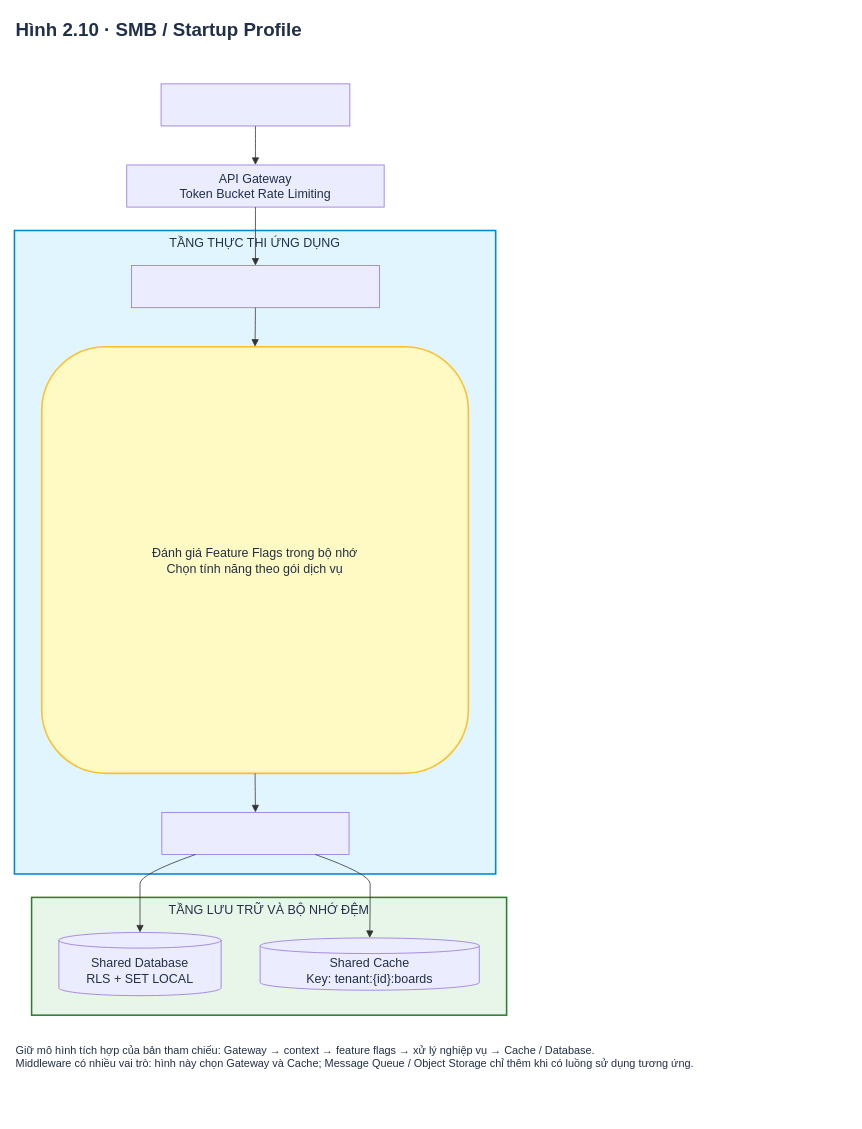
This 862x1129 diagram has some shape labels left out. The shapes that lost their labels are listed below. From the top down, each one's centre as x and y in pixels, then its label:
(255,104): Client Request (Tenant A)
(255,286): Tenant Context Filter Ngữ cảnh request bất biến
(255,833): Business Logic Processing
